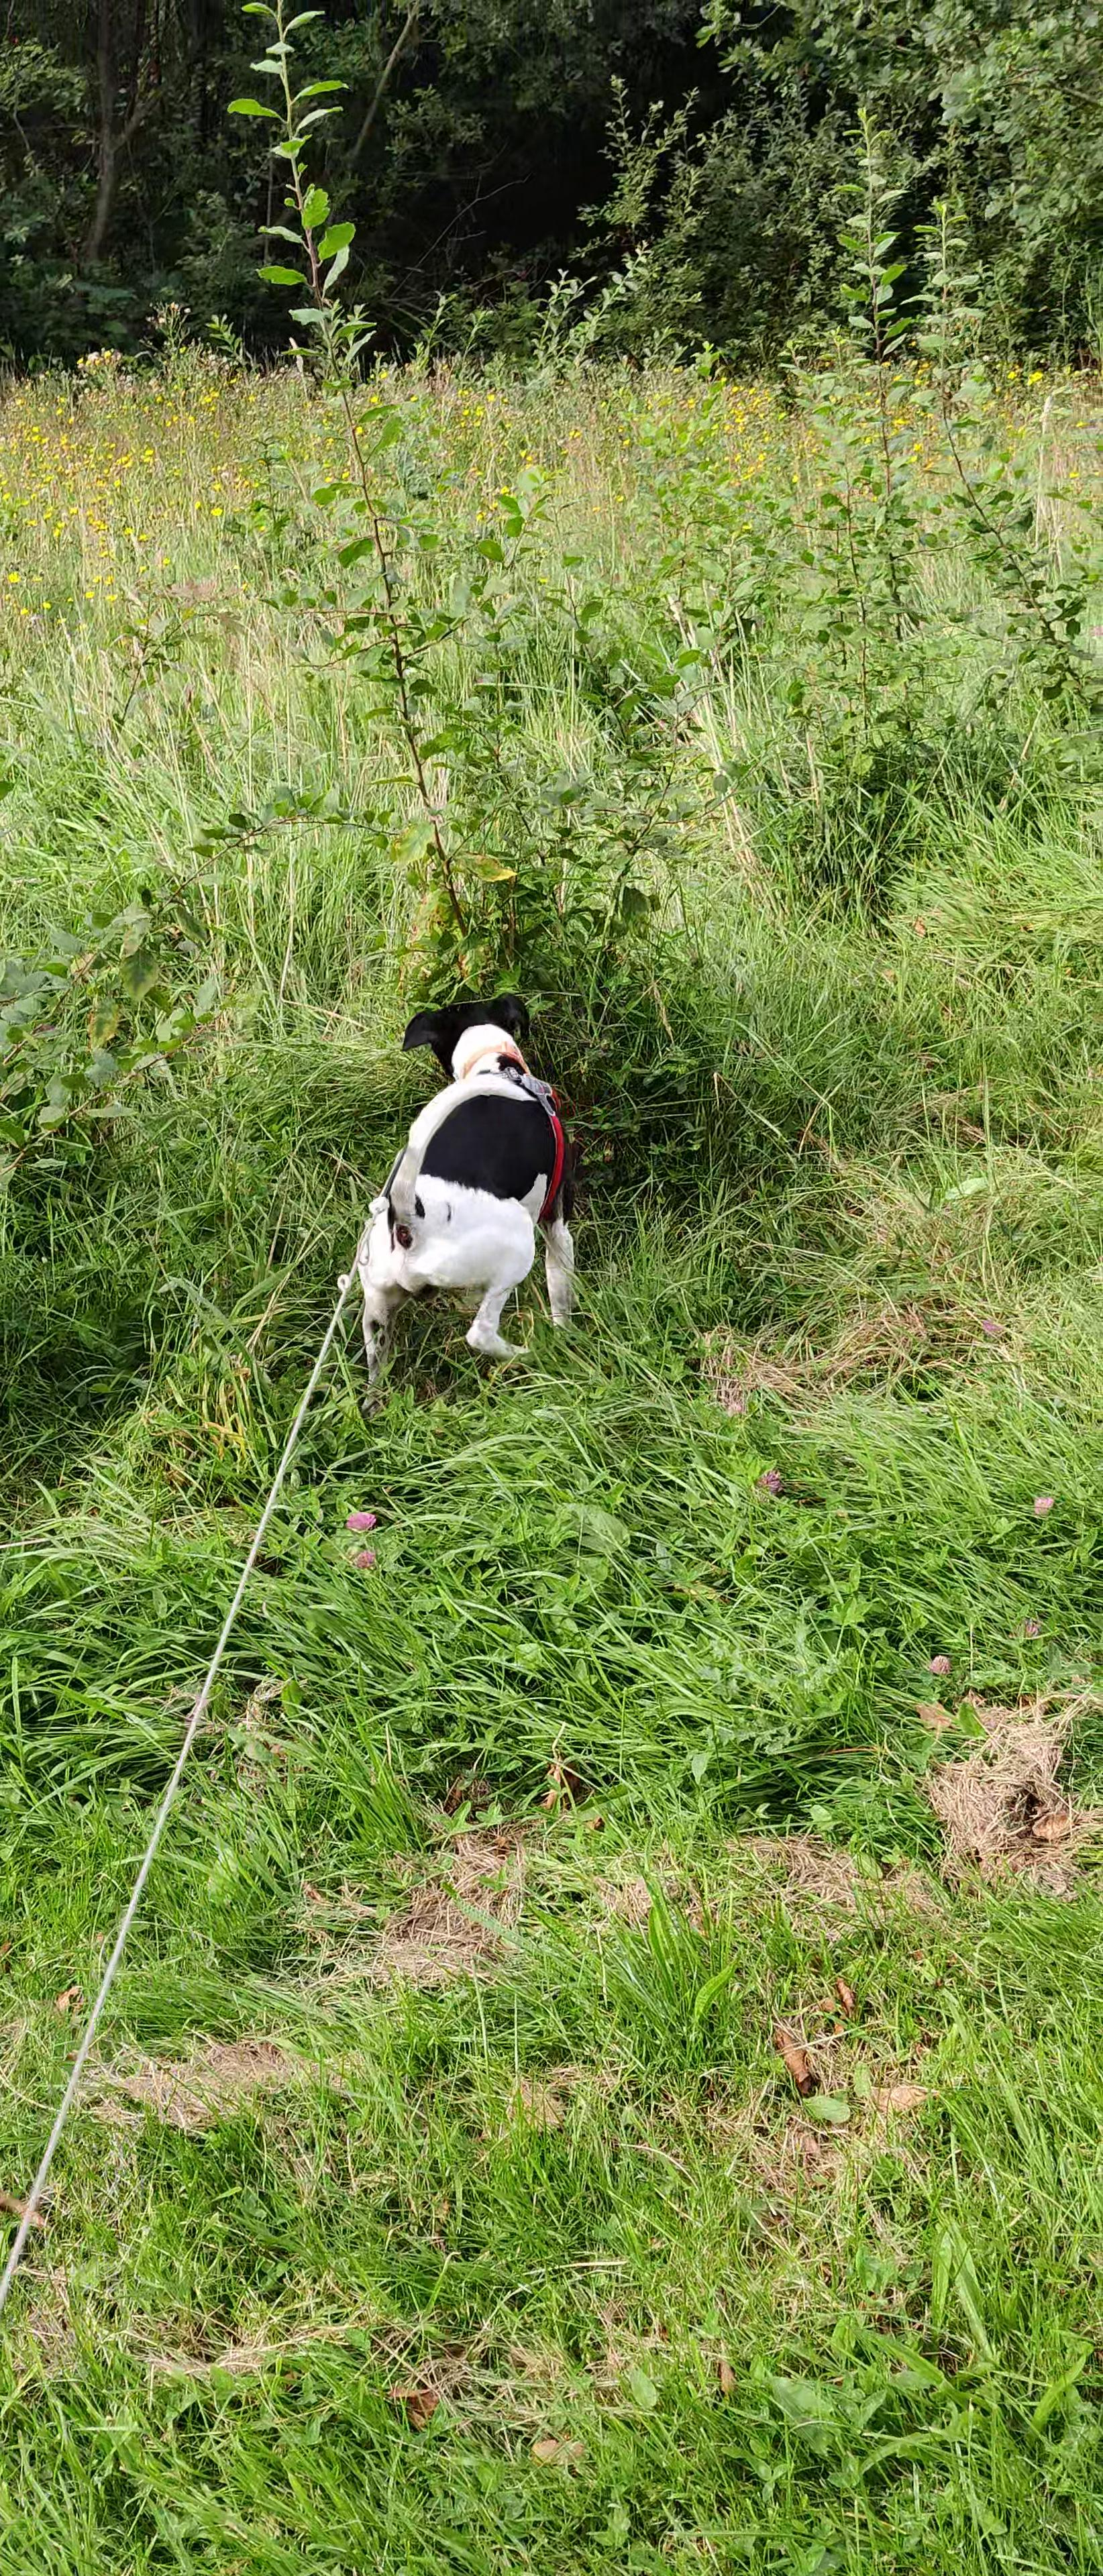Dog: (353, 986, 584, 1431)
